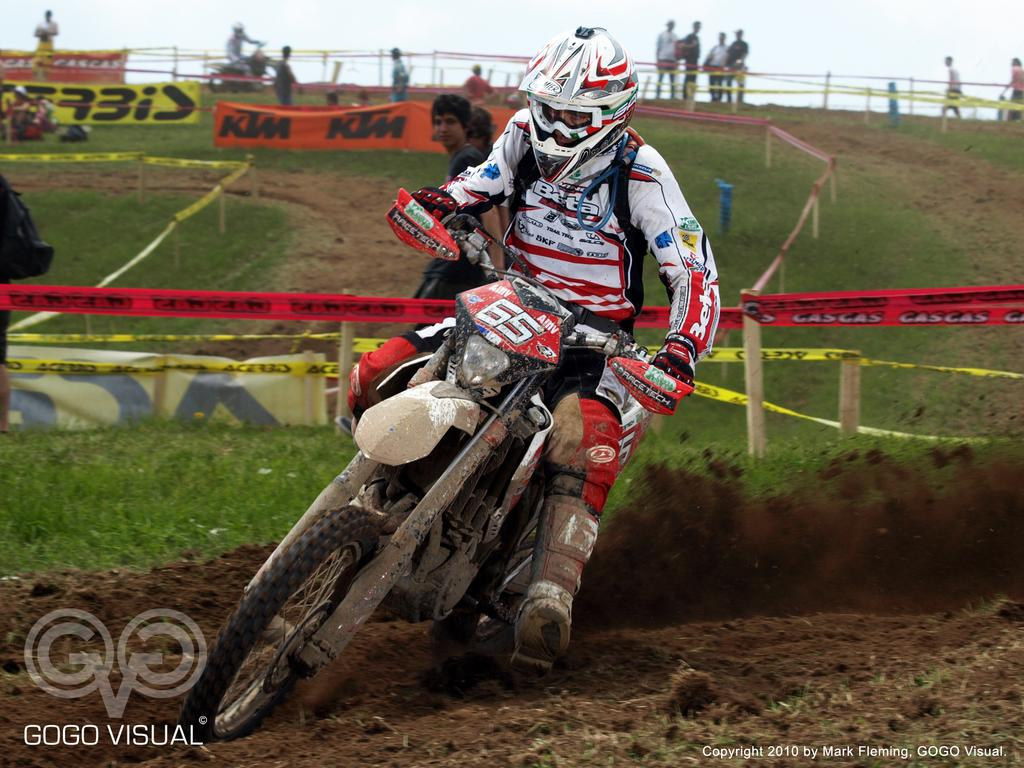helmet: (518, 25, 639, 185), (232, 22, 245, 37)
nohelmet: (430, 92, 473, 150), (389, 47, 403, 62), (281, 45, 293, 61), (471, 63, 483, 78), (691, 20, 703, 35), (664, 19, 676, 33), (733, 28, 745, 41), (43, 9, 54, 23), (1010, 57, 1022, 69), (943, 55, 954, 68), (717, 31, 727, 45)
